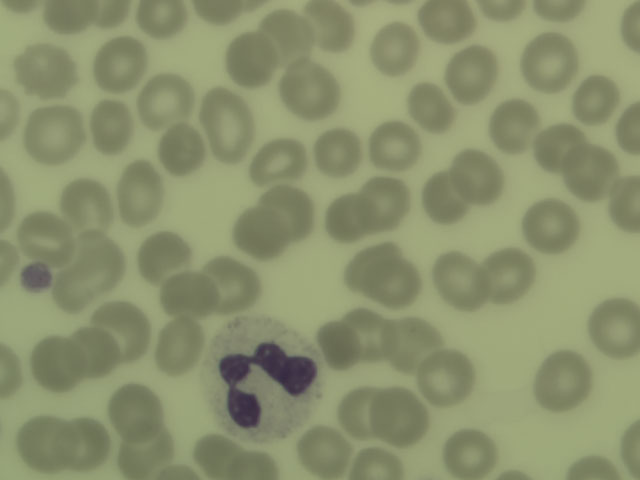Platelets: (19, 261, 52, 292)
RBC: (200, 87, 254, 162), (419, 170, 475, 225), (367, 115, 423, 170), (310, 123, 366, 178), (296, 423, 352, 478), (443, 424, 499, 479), (536, 356, 592, 411), (584, 300, 640, 355), (334, 384, 390, 439), (370, 390, 426, 445), (418, 348, 474, 403), (386, 317, 442, 372), (337, 307, 393, 362), (309, 318, 365, 373), (342, 237, 398, 292), (370, 254, 426, 309), (431, 250, 487, 305), (482, 250, 538, 305), (563, 146, 619, 201), (529, 122, 585, 177), (523, 194, 579, 249), (566, 70, 622, 125), (485, 95, 541, 150), (446, 46, 502, 101), (520, 35, 576, 90), (368, 20, 424, 75), (279, 62, 335, 117), (261, 10, 317, 65), (223, 32, 279, 87), (230, 204, 286, 259), (264, 183, 320, 238), (251, 134, 307, 189), (205, 254, 261, 309), (149, 324, 205, 379), (159, 270, 215, 325), (134, 231, 190, 286), (105, 382, 161, 437), (55, 417, 111, 472), (14, 415, 70, 470), (95, 300, 151, 355), (64, 327, 120, 382), (28, 338, 84, 393), (49, 263, 105, 318), (75, 234, 131, 289), (19, 210, 75, 265), (58, 175, 114, 230), (112, 163, 168, 218), (153, 122, 209, 177), (135, 71, 191, 126), (83, 98, 139, 153), (27, 106, 83, 161), (92, 35, 148, 90), (20, 43, 76, 98), (358, 173, 414, 228), (321, 190, 377, 245), (404, 77, 460, 132), (306, 1, 362, 55), (116, 425, 172, 479), (448, 148, 505, 199), (414, 1, 471, 43), (189, 434, 238, 478), (133, 1, 189, 37), (35, 1, 94, 35), (229, 447, 288, 480), (353, 445, 407, 479), (564, 444, 615, 480), (611, 175, 640, 238), (611, 417, 640, 475), (609, 1, 640, 53), (195, 1, 242, 29), (535, 1, 584, 27), (79, 1, 129, 26), (1, 84, 22, 143), (1, 341, 23, 397), (474, 1, 524, 24)
WBC: (204, 317, 322, 440)
